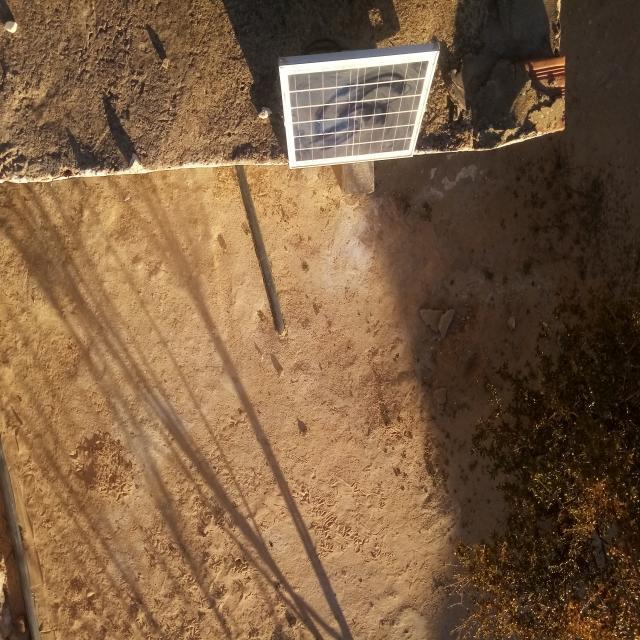faulty: (279, 51, 438, 167)
